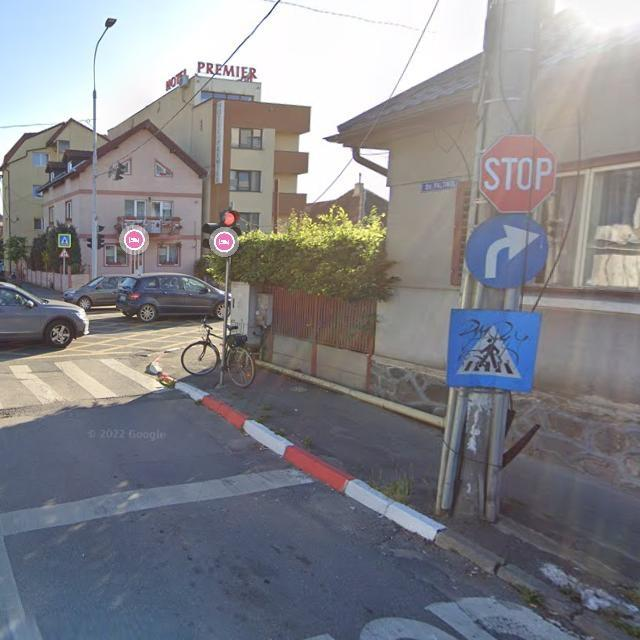info_crosswalk: (447, 308, 540, 394)
prio_stop: (477, 136, 558, 212)
